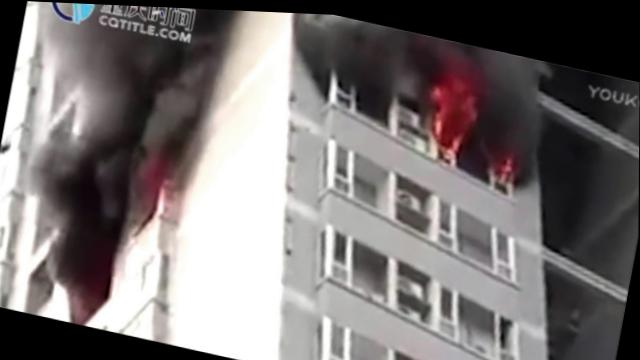fire: (425, 69, 478, 147)
